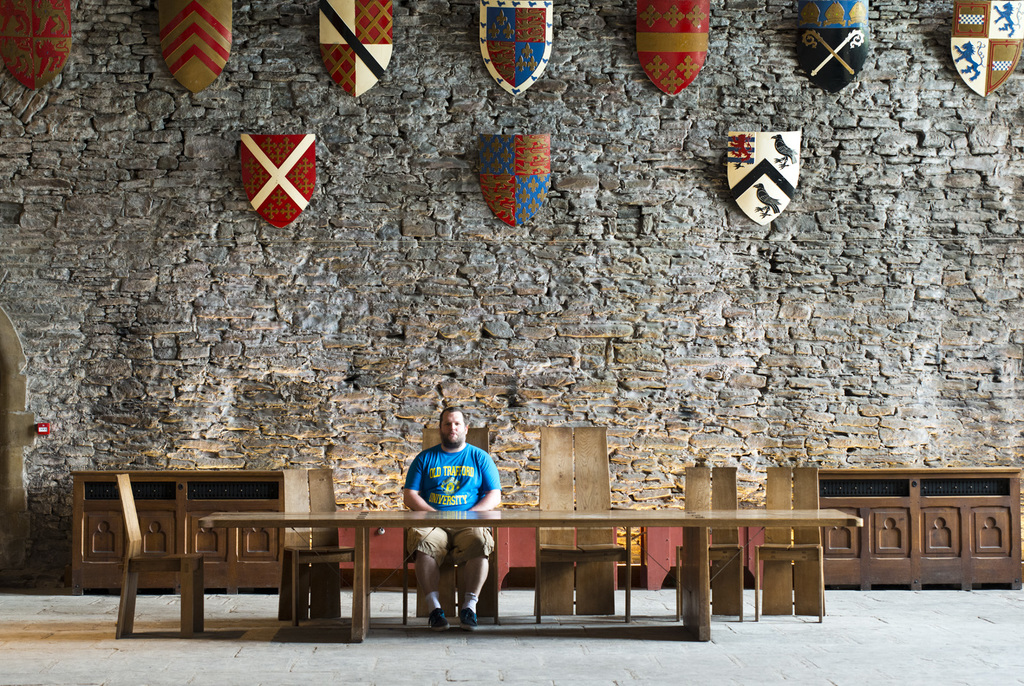Cabinetry: (760, 445, 1024, 612), (81, 468, 335, 596)
